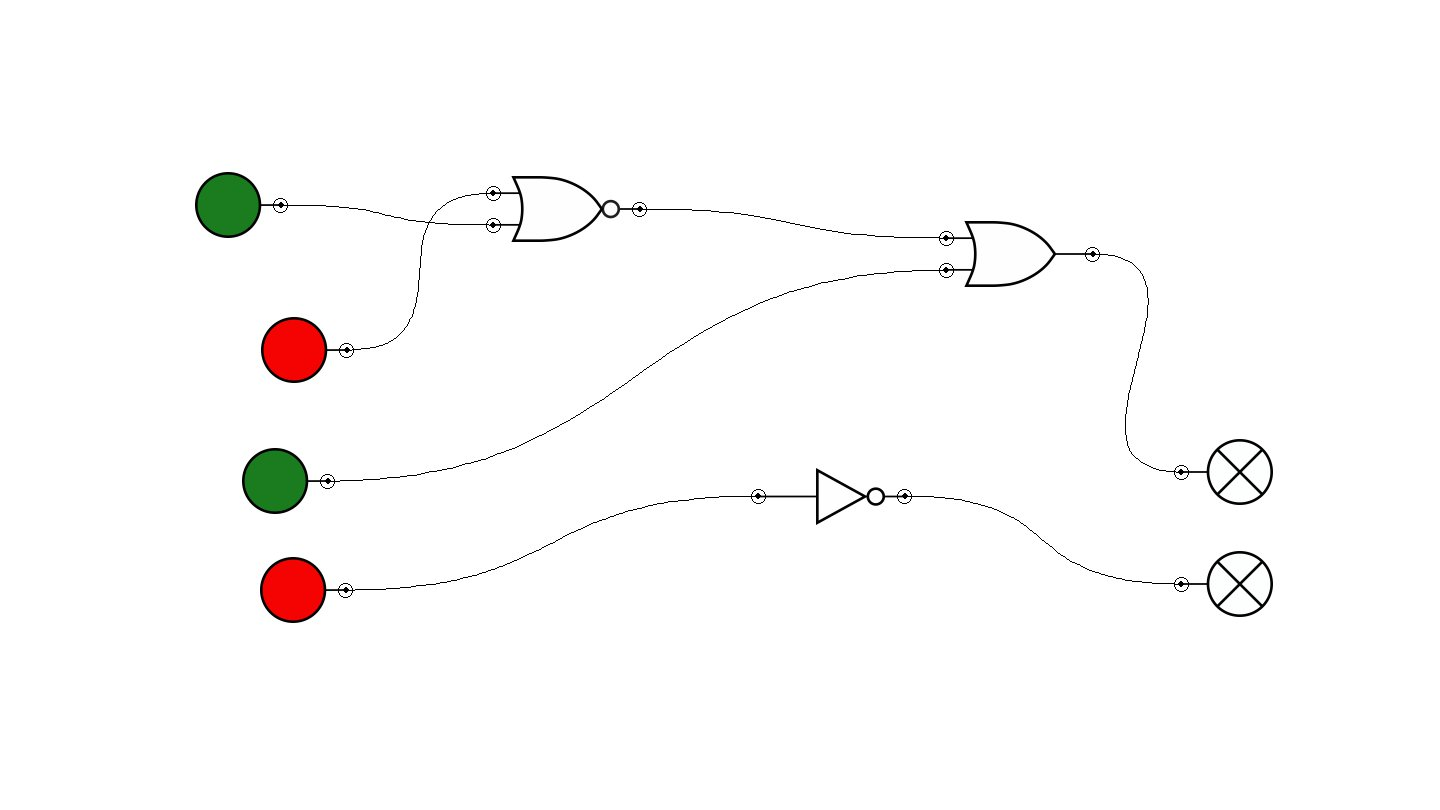bulb: (1174, 439, 1273, 505), (1174, 551, 1273, 617)
nor: (486, 176, 647, 242)
not: (751, 468, 912, 525)
or: (939, 221, 1100, 287)
switch_False: (260, 557, 353, 623), (261, 317, 354, 383)
switch_True: (242, 448, 335, 514), (195, 172, 288, 238)
